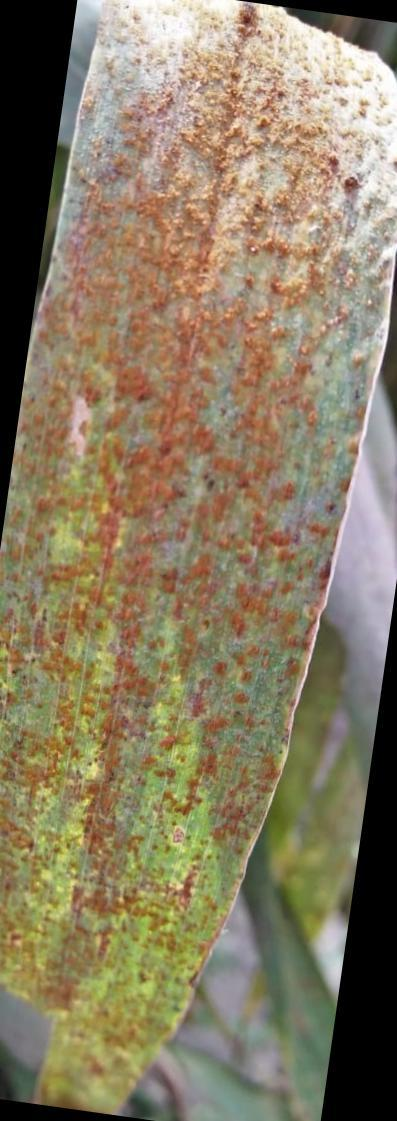Corn: (36, 42, 348, 560), (21, 495, 316, 1012)
